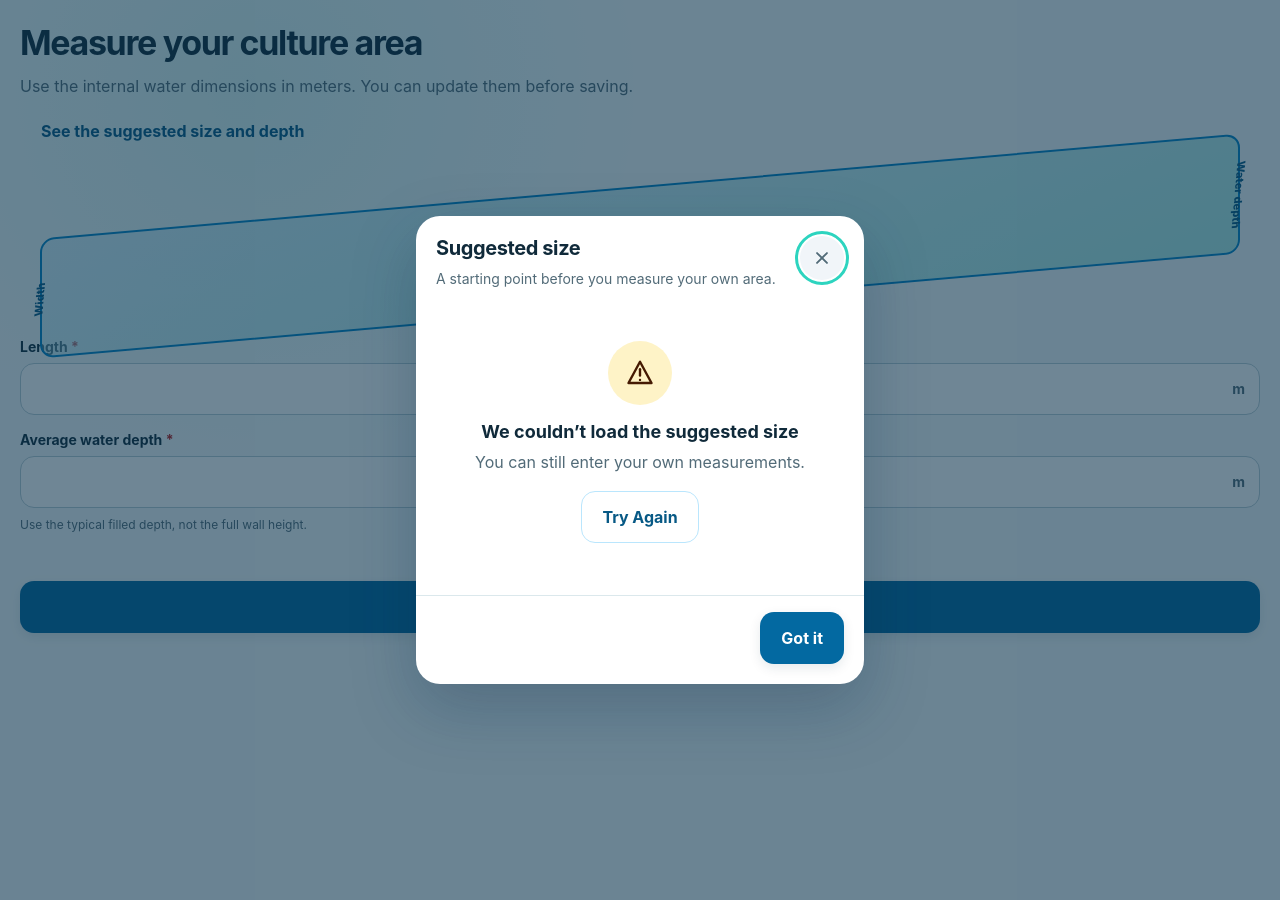
DimensionsStepView › closes the suggestion and opens it again from the step
The image size is (1280, 900).
Click the button "Got it": click(802, 638) [760,612,844,664]
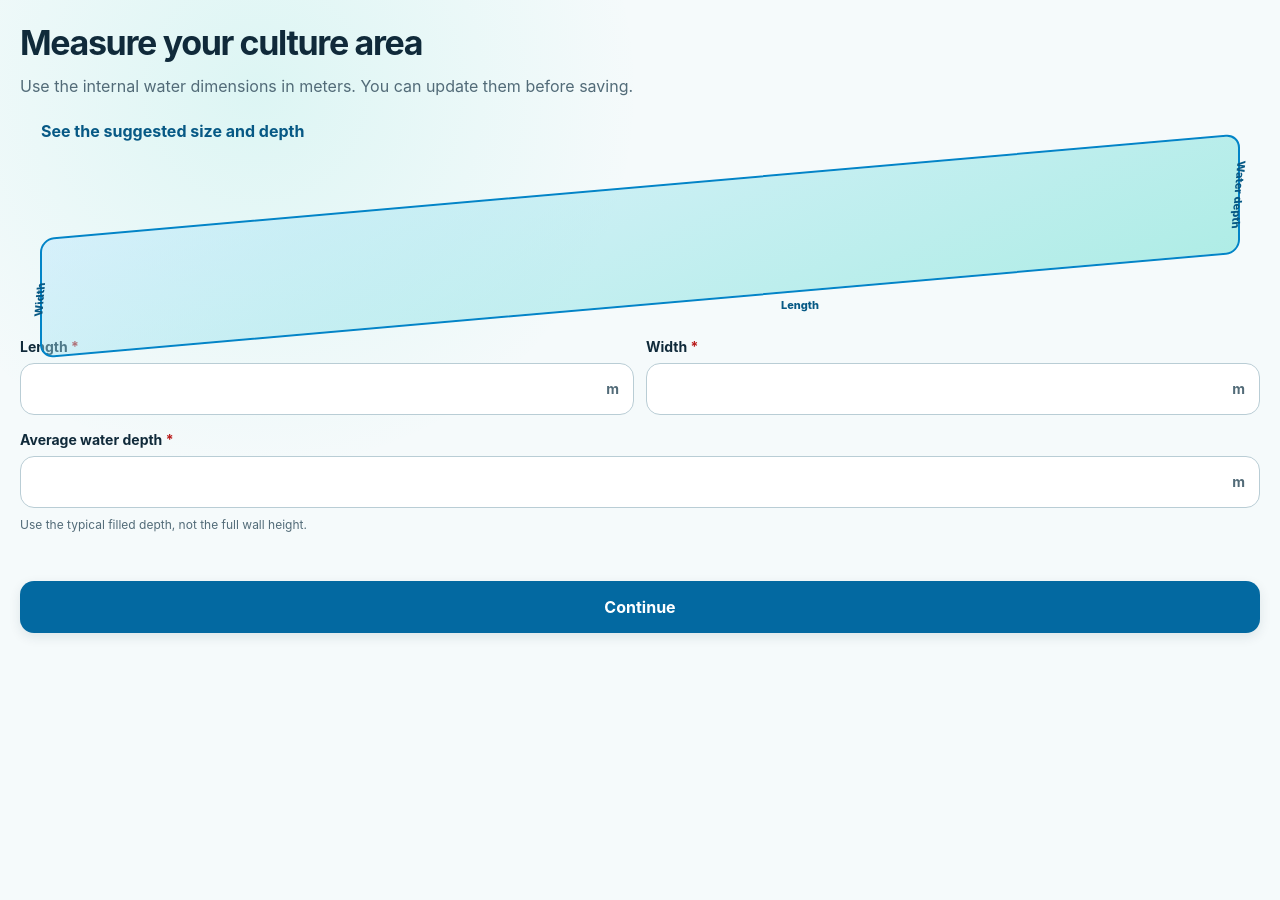
Click the button "See the suggested size and depth": click(173, 131) [20,108,325,154]
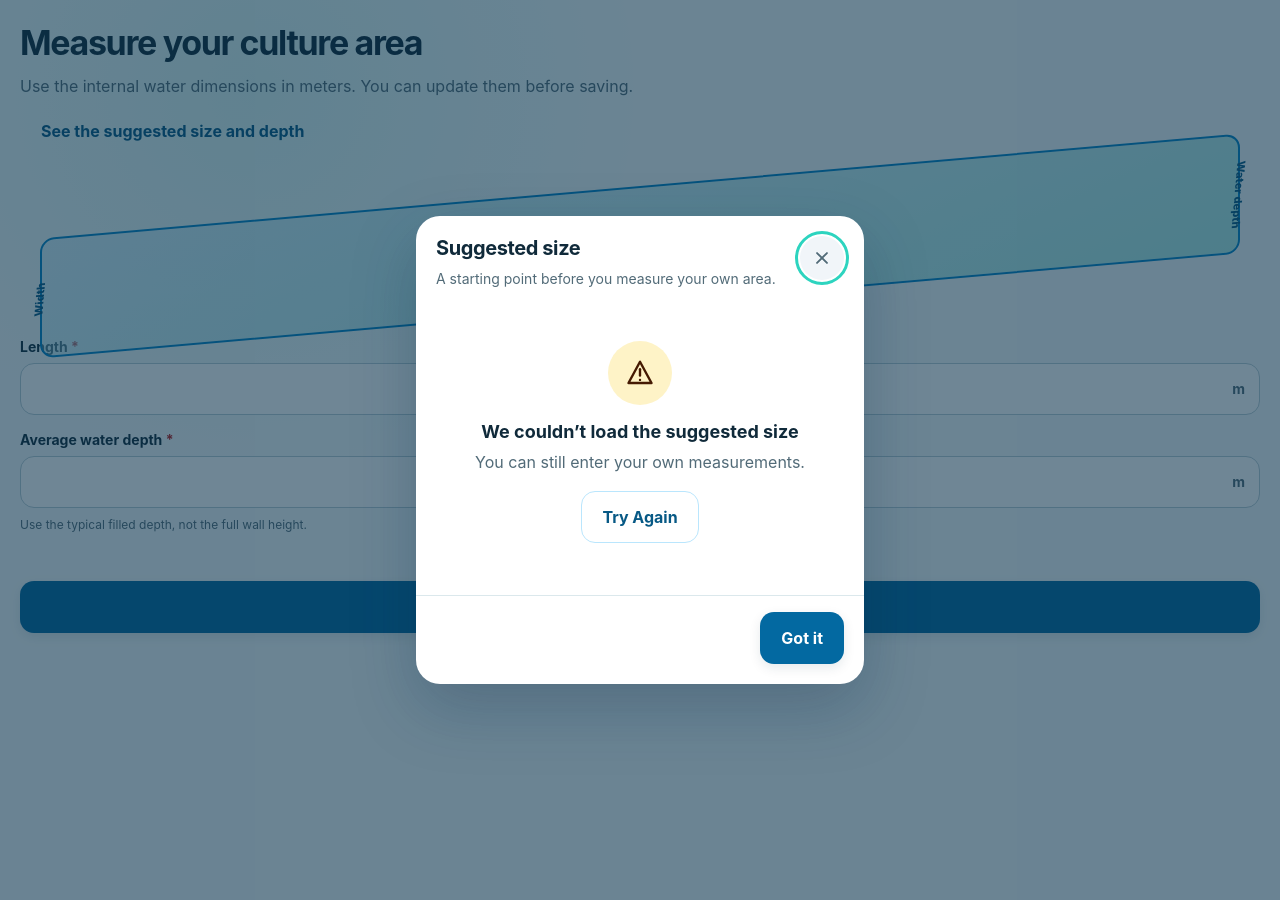
Now the dialog is shown, box [416,216,864,684]
